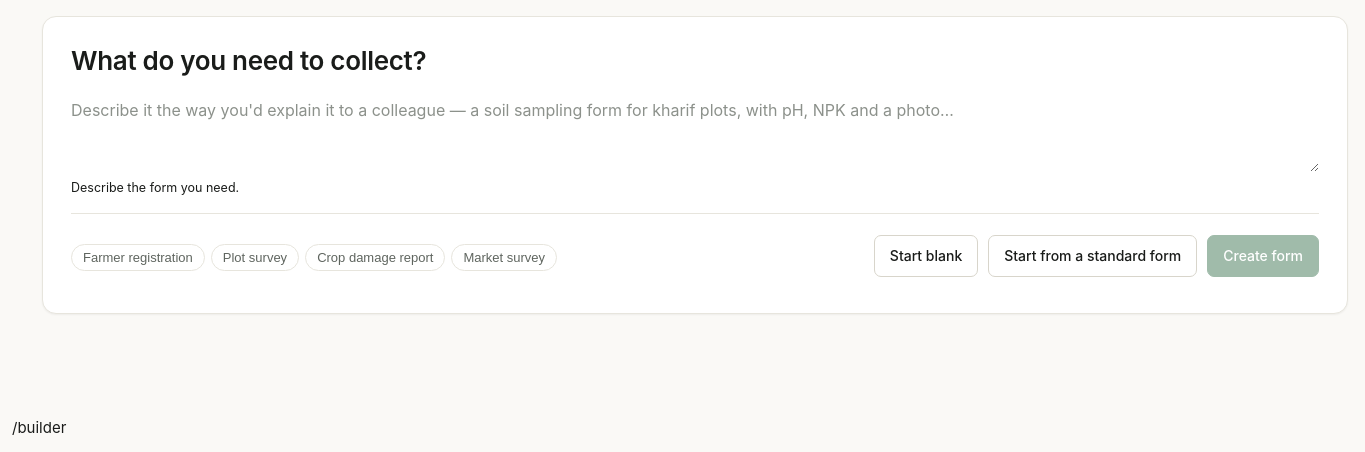
choosing a channel for a new form › only a description is asked for before drafting, and it says so
Check: the button "Create form" is disabled, box [1207,235,1319,277]
Type "soil" into the text box with placeholder "Describe it the way".
click(695, 134); type("soil")  # box [71,98,1319,172]
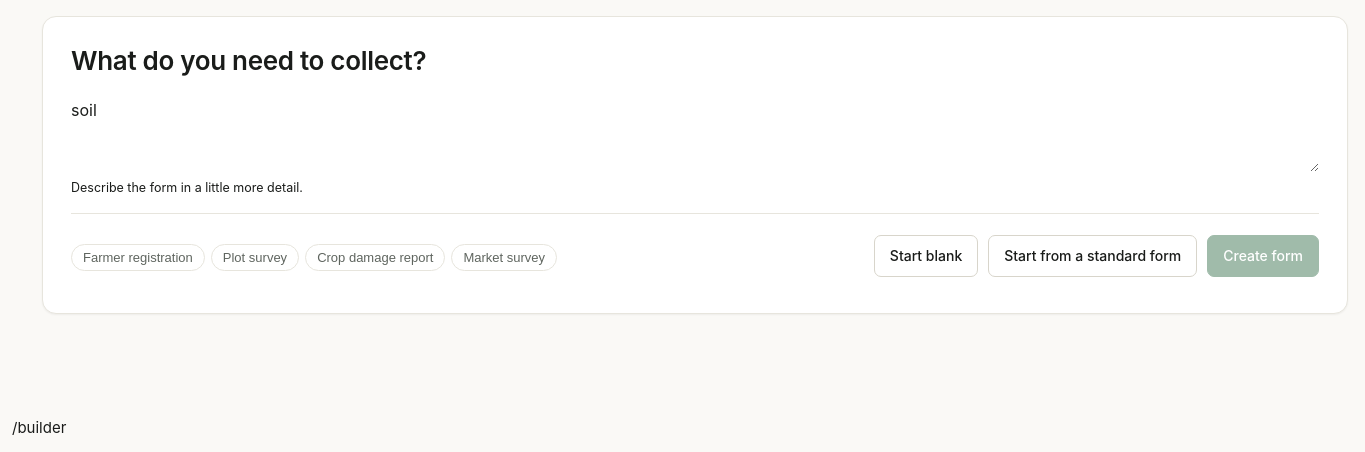
Check: the message with id "create-why" reads "Describe the form in a little more detail.", box [71,180,303,195]
Type " sampling form" into the text box with placeholder "Describe it the way".
click(695, 134); type(" sampling form")  # box [71,98,1319,172]
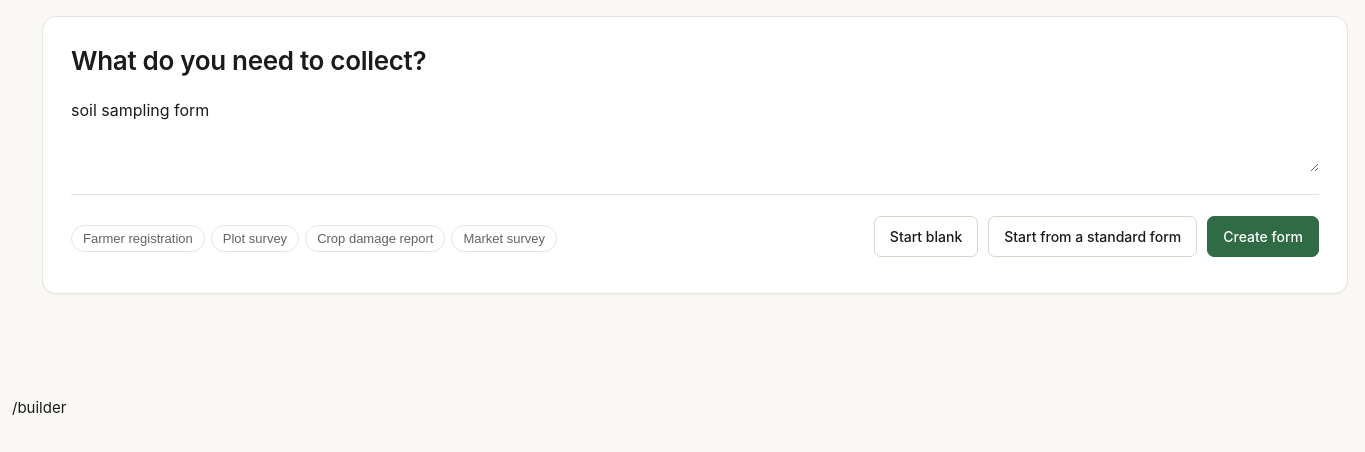
Check: the message with id "create-why" is gone
Check: the button "Create form" is enabled, box [1207,216,1319,258]
